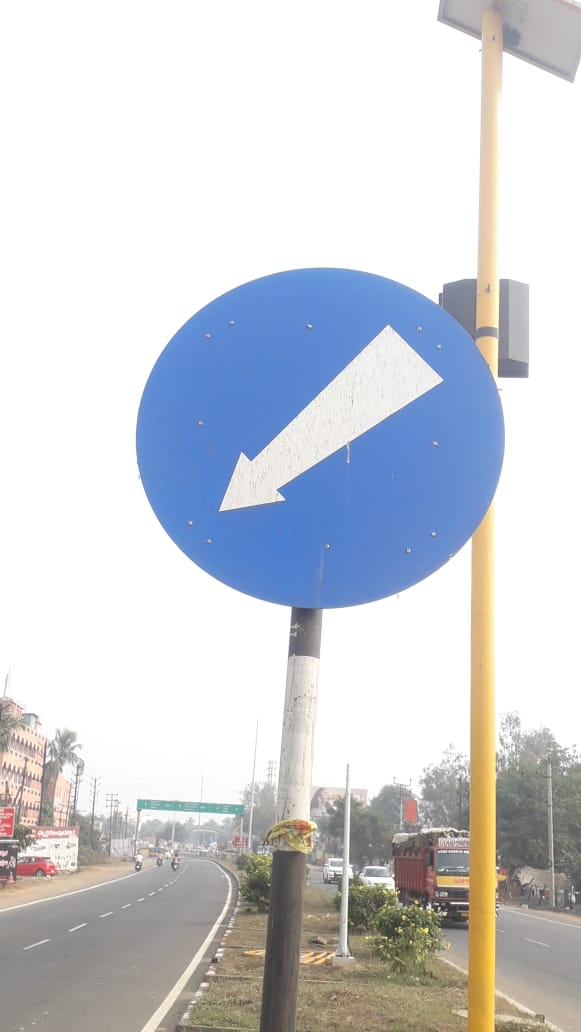go left: (126, 237, 521, 648)
